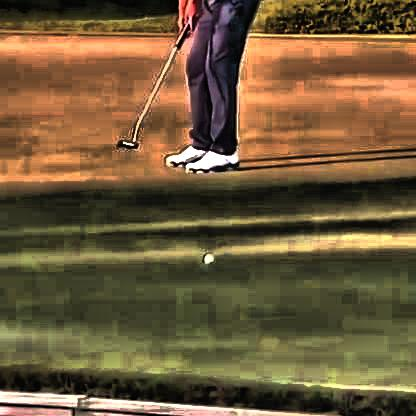golfball: (202, 250, 212, 261)
